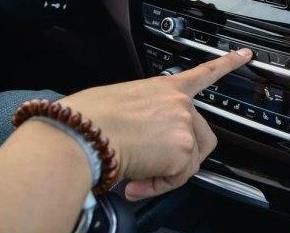up: (104, 44, 257, 208)
